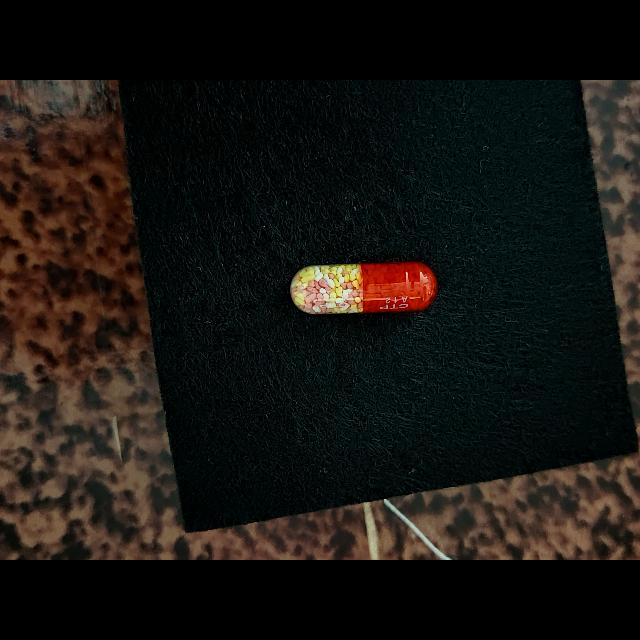Intact Capsule: (290, 261, 437, 314)
